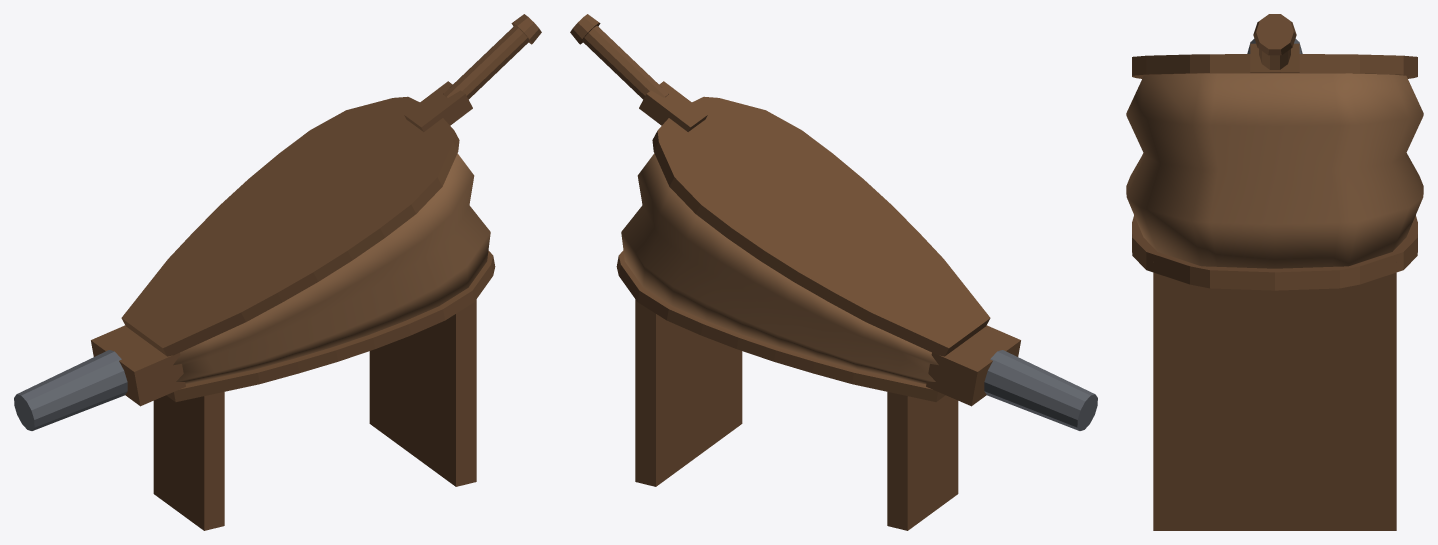
The model's file is bellows.glb.
3 renders of one model, left to right at view 1: azimuth 30°, elevation 25°; view 2: azimuth 150°, elevation 25°; view 3: azimuth 270°, elevation 25°, orthographic. The views are drawn at different scales.
Parts seen in each view (by area): view 1: Bellows_Lid, Bellows_Base, Bellows_Bag; view 2: Bellows_Lid, Bellows_Base, Bellows_Bag; view 3: Bellows_Base, Bellows_Bag, Bellows_Lid.
Boxes of the visible parts, x1,y1,x2,y2 form: Bellows_Lid: (121,14,541,356); Bellows_Base: (14,250,495,530); Bellows_Bag: (173,153,490,384); Bellows_Lid: (570,14,990,356); Bellows_Base: (616,250,1097,530); Bellows_Bag: (621,153,938,384); Bellows_Base: (1132,38,1417,530); Bellows_Bag: (1126,73,1423,268); Bellows_Lid: (1132,14,1417,78).
Bounding box in the file's own units: 0.8929 × 0.6794 × 0.3153.
